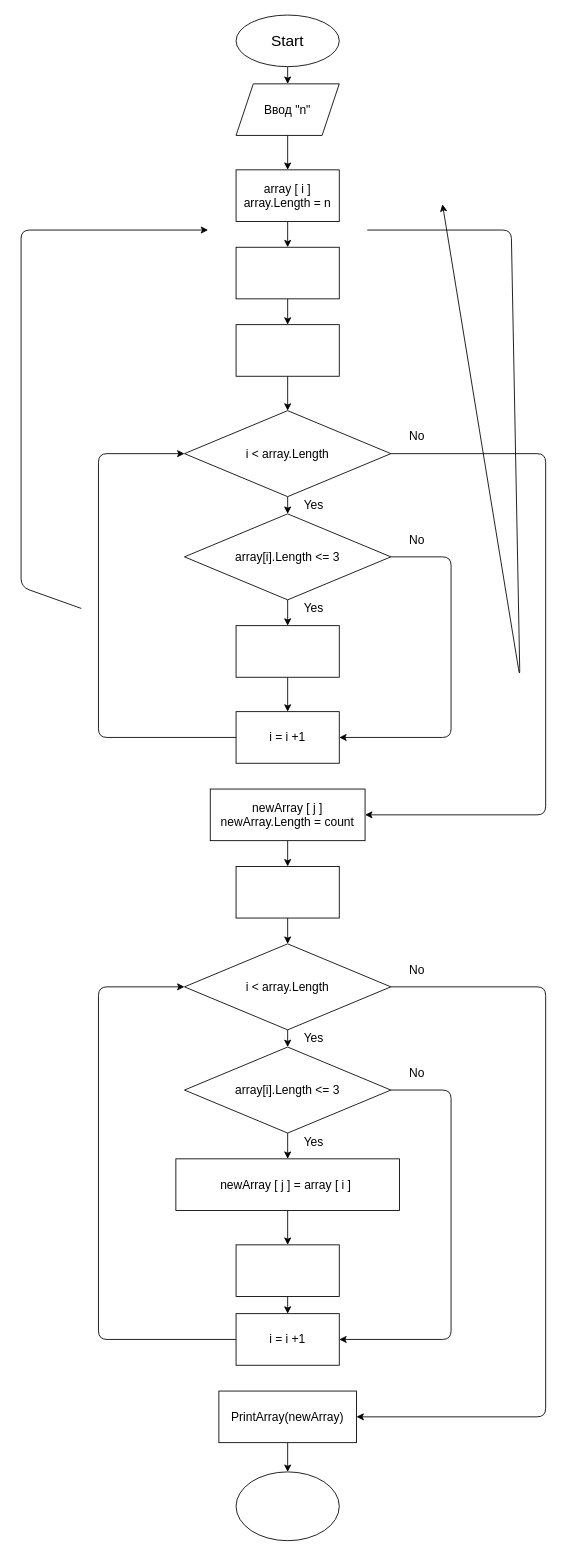
Image size: 568x1556. Some labels were removed from this diagram. Here are the shapes that lost their labels. From the top down, the centre of each, then its label:
[287,272]: FillArray(array) PrintArray(array)
[287,350]: i = 0 count = 0
[287,651]: count = count +1
[287,892]: i = 0 j = 0
[287,1270]: j = j + 1
[287,1506]: Finish
